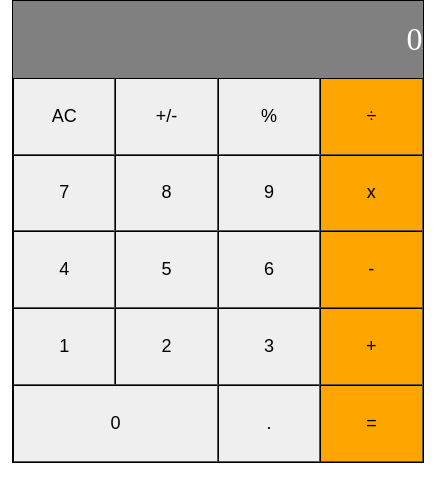
Scenario: Test If a user click a button on the Calculator  the display should Update › If a user click 7 and 8 button the Calculator Screen displays 78
Click the button "7" at (64, 193), box [13,155,115,231]
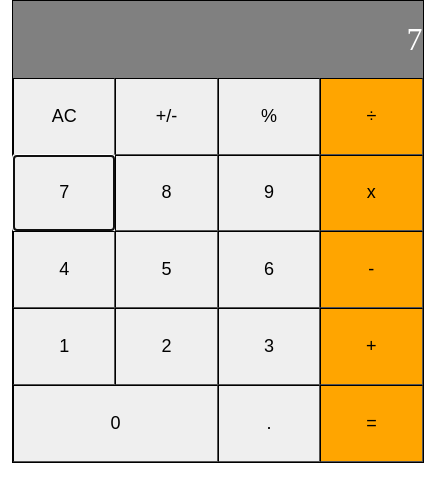
Click the button "8" at (167, 193), box [115,155,218,231]
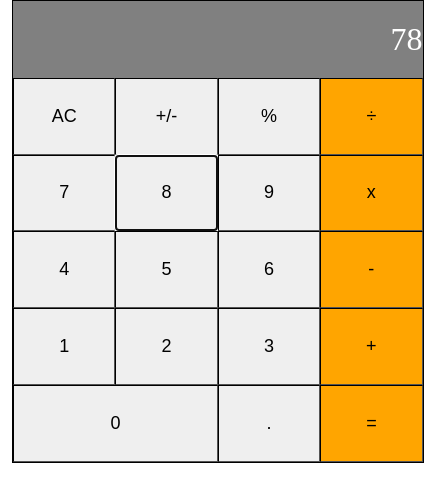
Check: the text "78" is shown, box [13,1,423,78]
